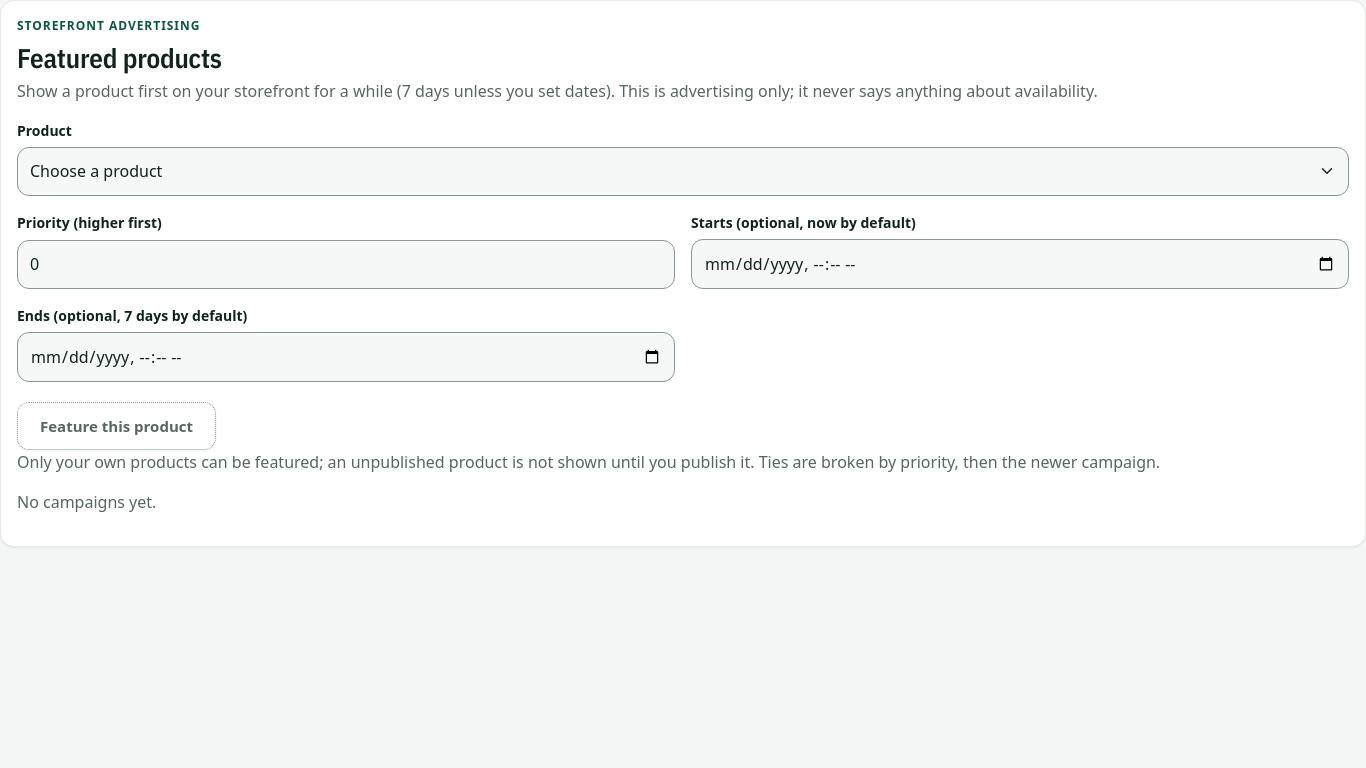
Test case: owner features a product, sees it live with priority, and can stop it (record kept)
Expected: the text "No campaigns yet." is shown, [17,492,156,514]
Select "Cedar Water" in the dropdown labelled "Product". click: (683, 172)
box: [17,147,1349,196]
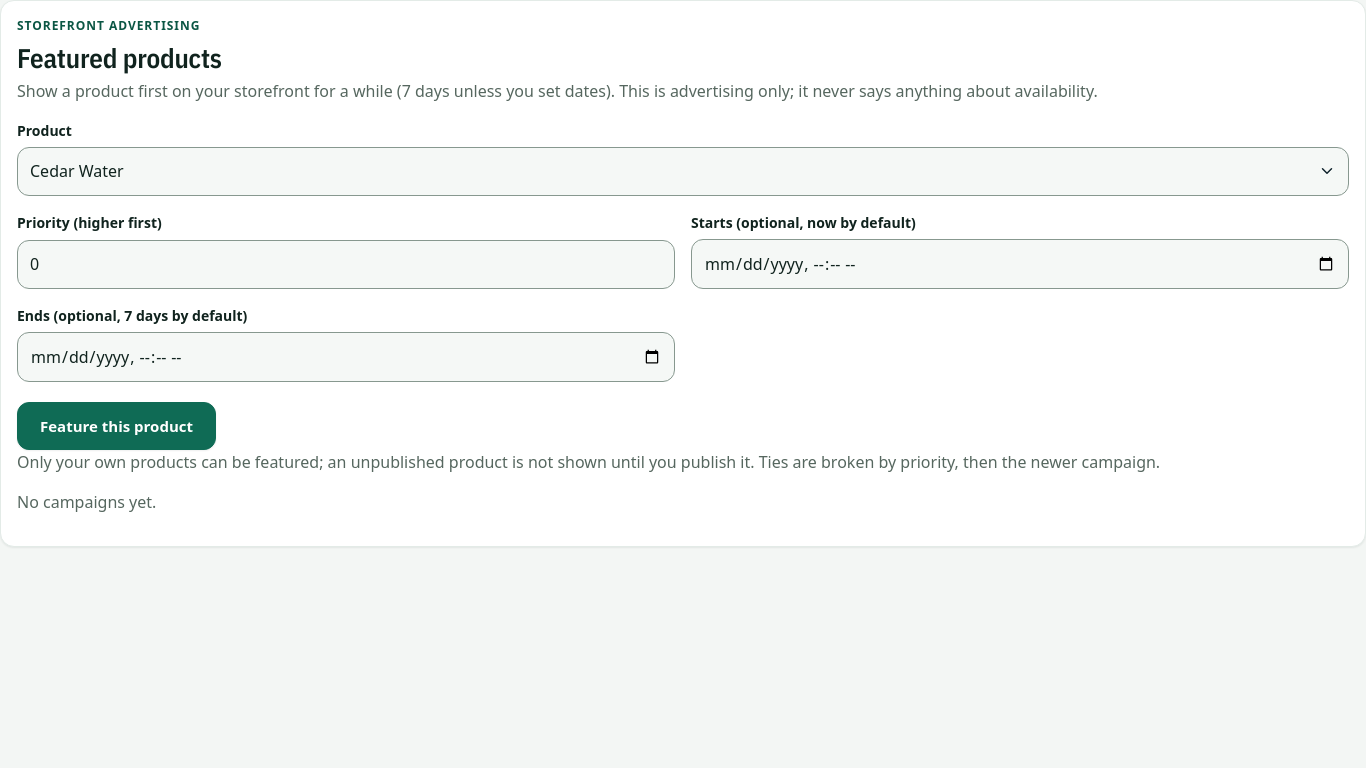
Replace the text in the number field labelled "Priority (higher first)" with "5". click: (346, 264)
box: [17,240,675,289]
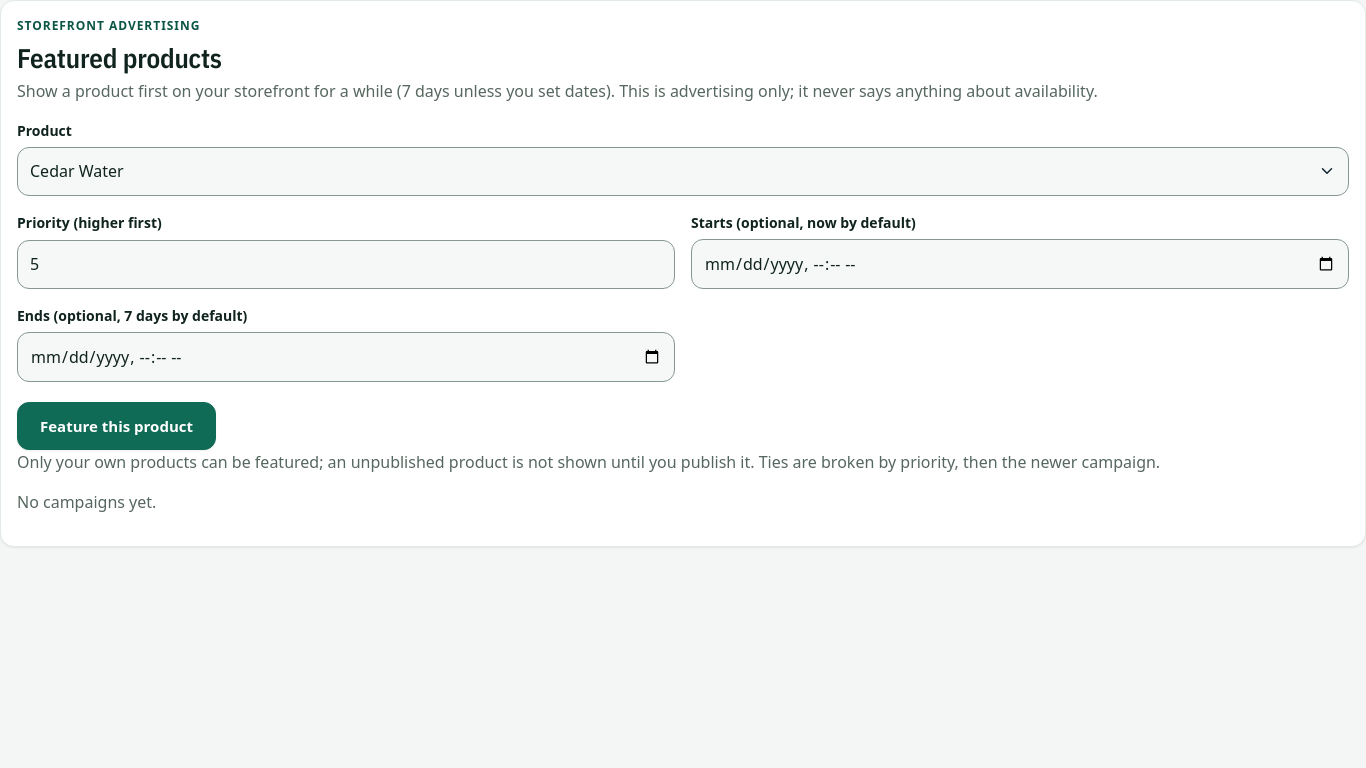
Click the button "Feature this product". click: (116, 426)
box: [17,402,216,450]
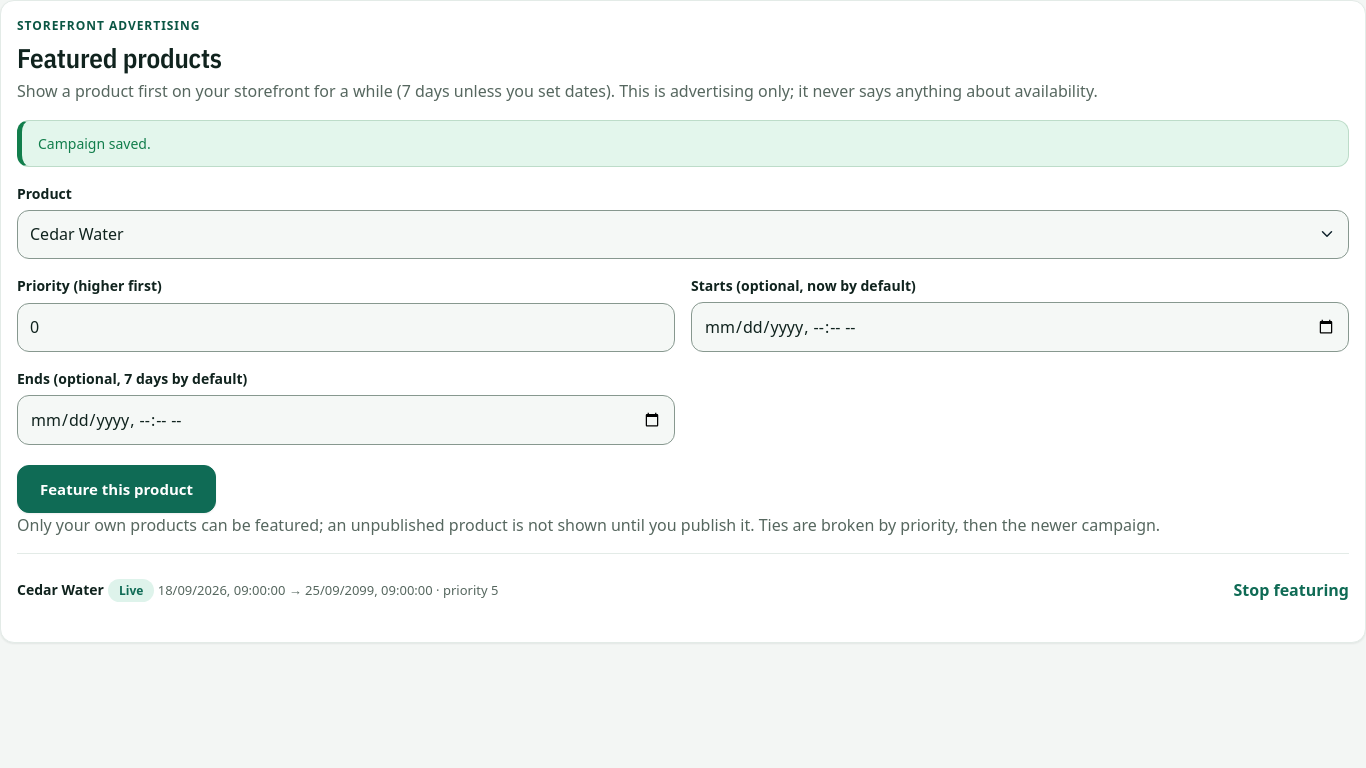
Now the text "Campaign saved." is shown, box [17,120,1349,167]
Now the text "Cedar Water" is shown 2 times
Now the text "Live" is shown, box [108,579,154,602]
Click the button "Stop featuring". click: (1291, 590)
box: [1234,568,1349,612]
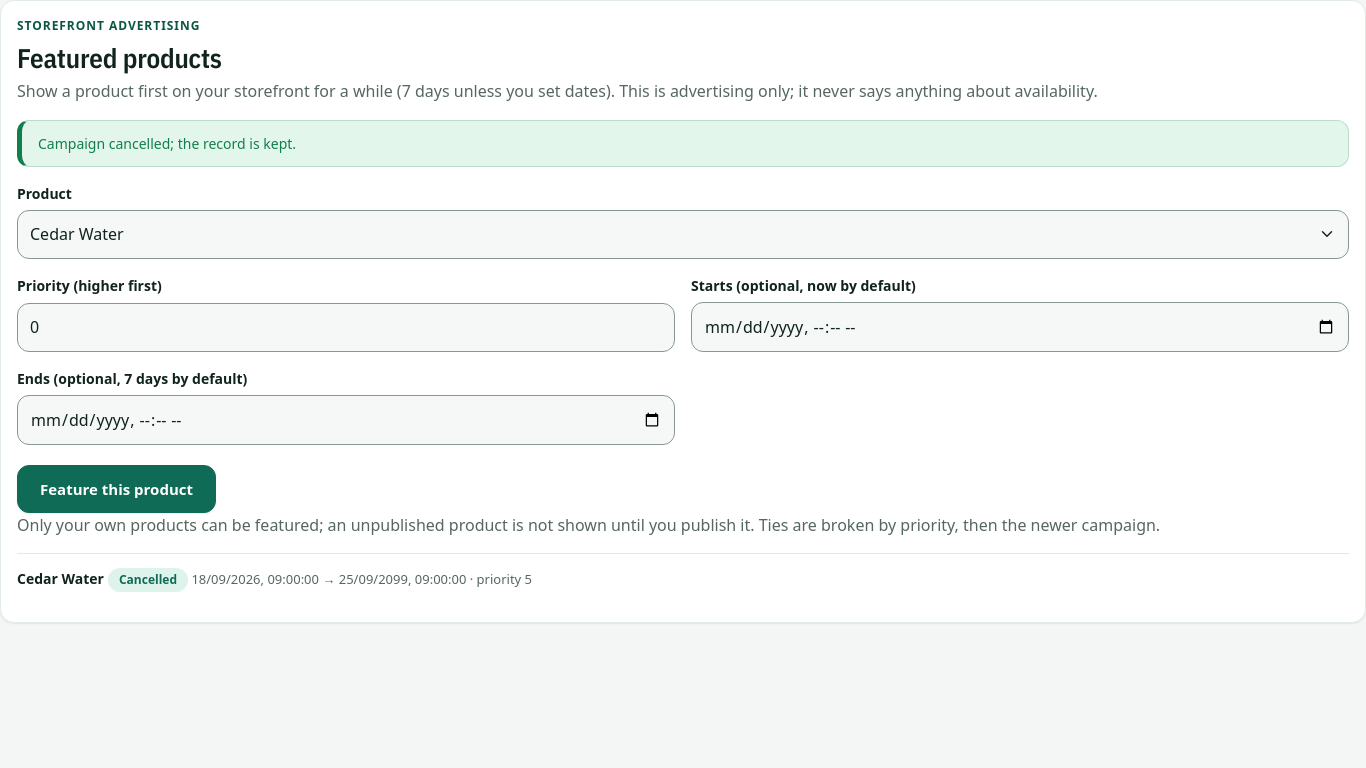
Now the text "Campaign cancelled; the record is kept." is shown, box [17,120,1349,167]
Now the text "Cancelled" is shown, box [108,568,188,592]
Now the button "Stop featuring" is gone
